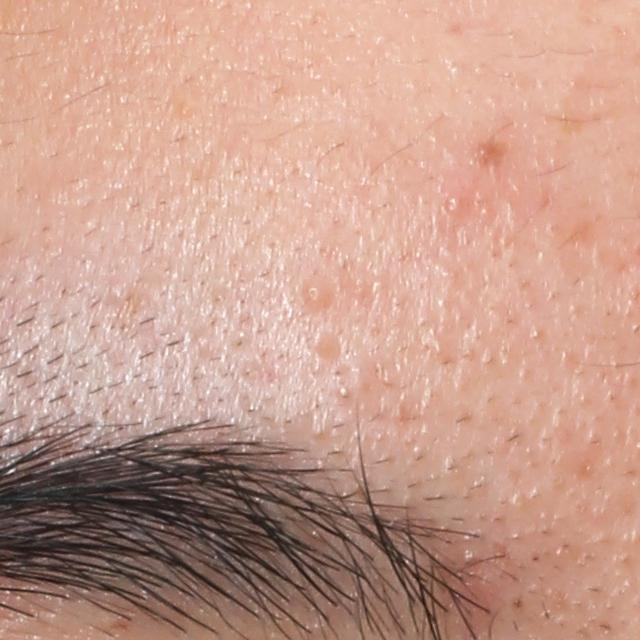comedo: (302, 282, 332, 308)
